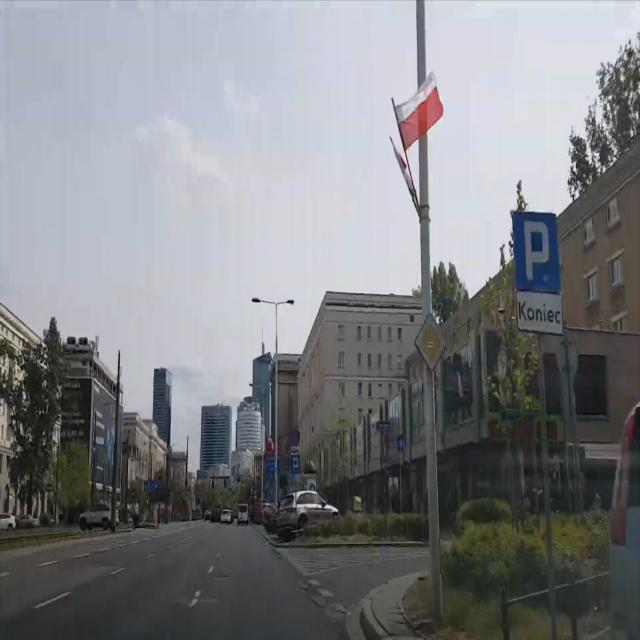Droga z pierwszenstwem: (414, 310, 447, 370)
Zakaz zatrzymywania sie: (289, 428, 301, 446)
